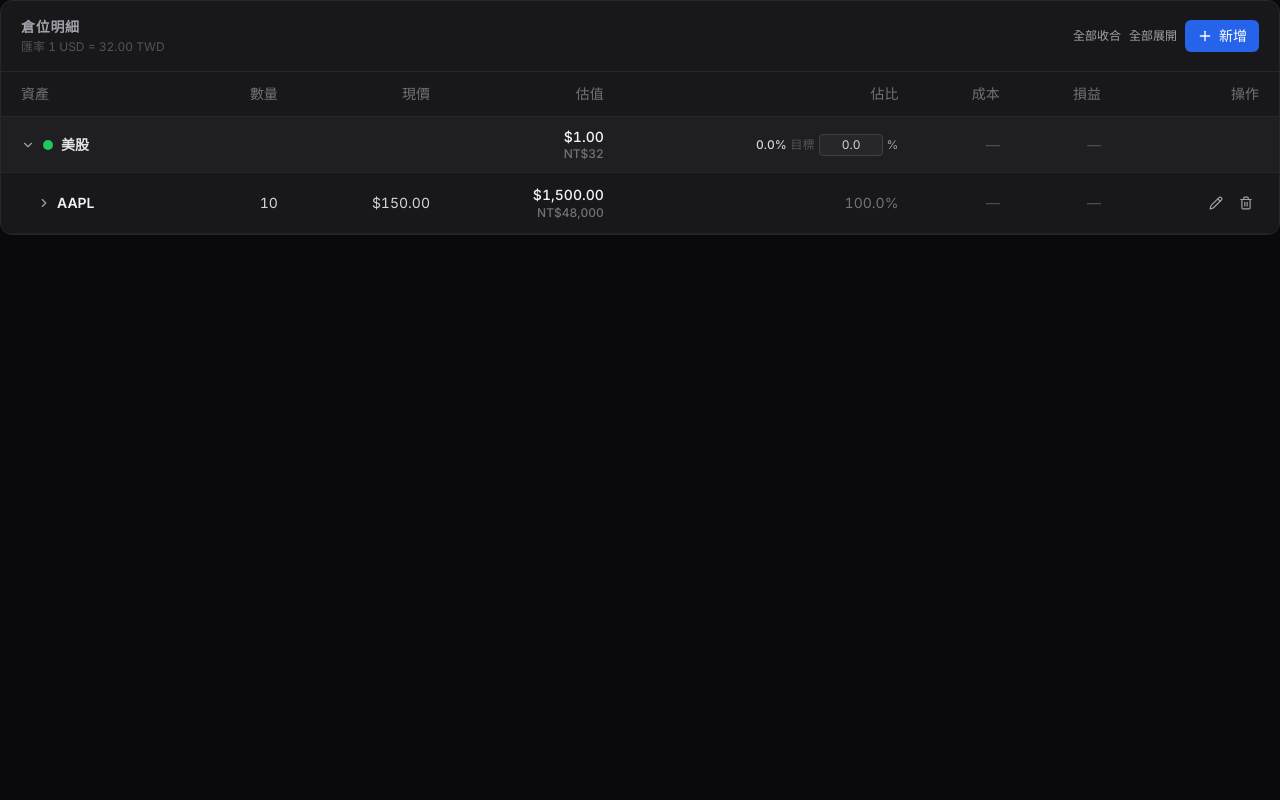
PositionTable › sub-table trash shows lot confirm dialog
Click the text "AAPL" at [76, 203], box x1=57 y1=193 x2=94 y2=213
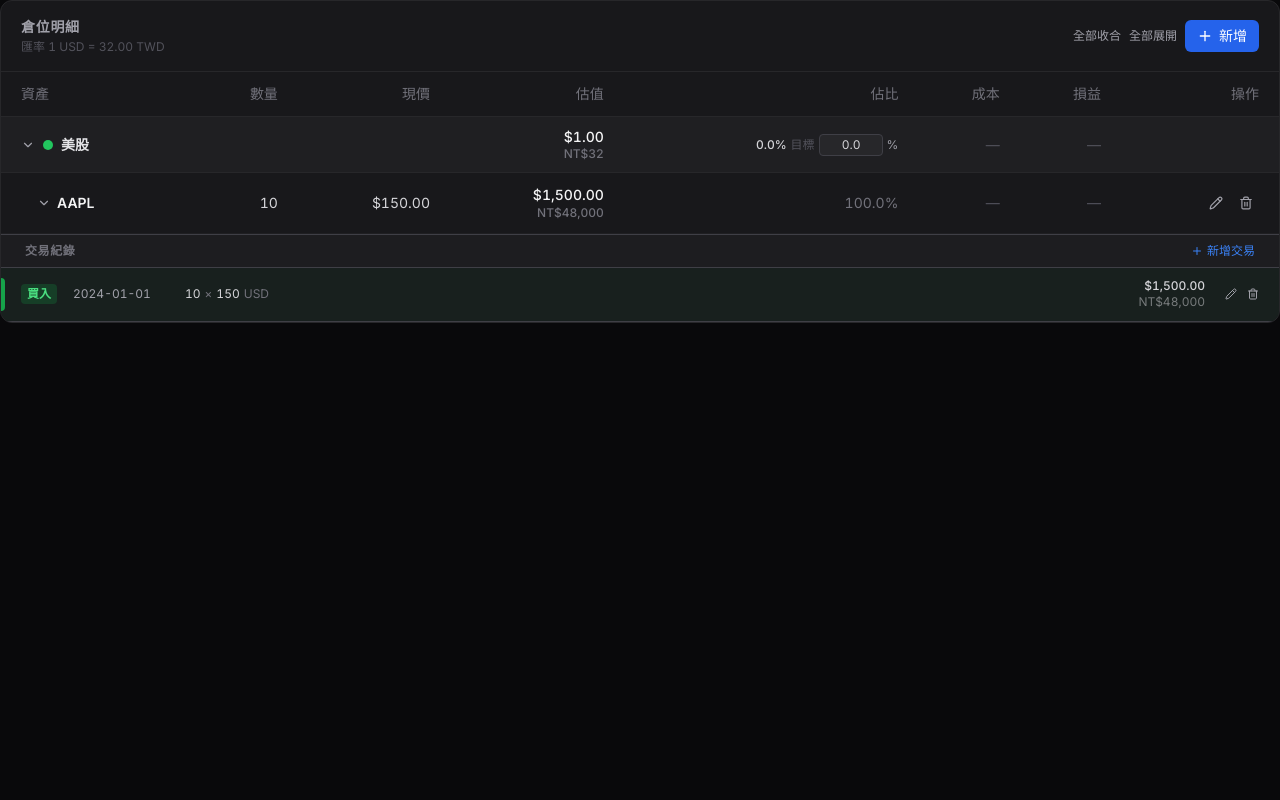
Click the button titled "刪除交易" at [1253, 294], box x1=1243 y1=284 x2=1263 y2=304
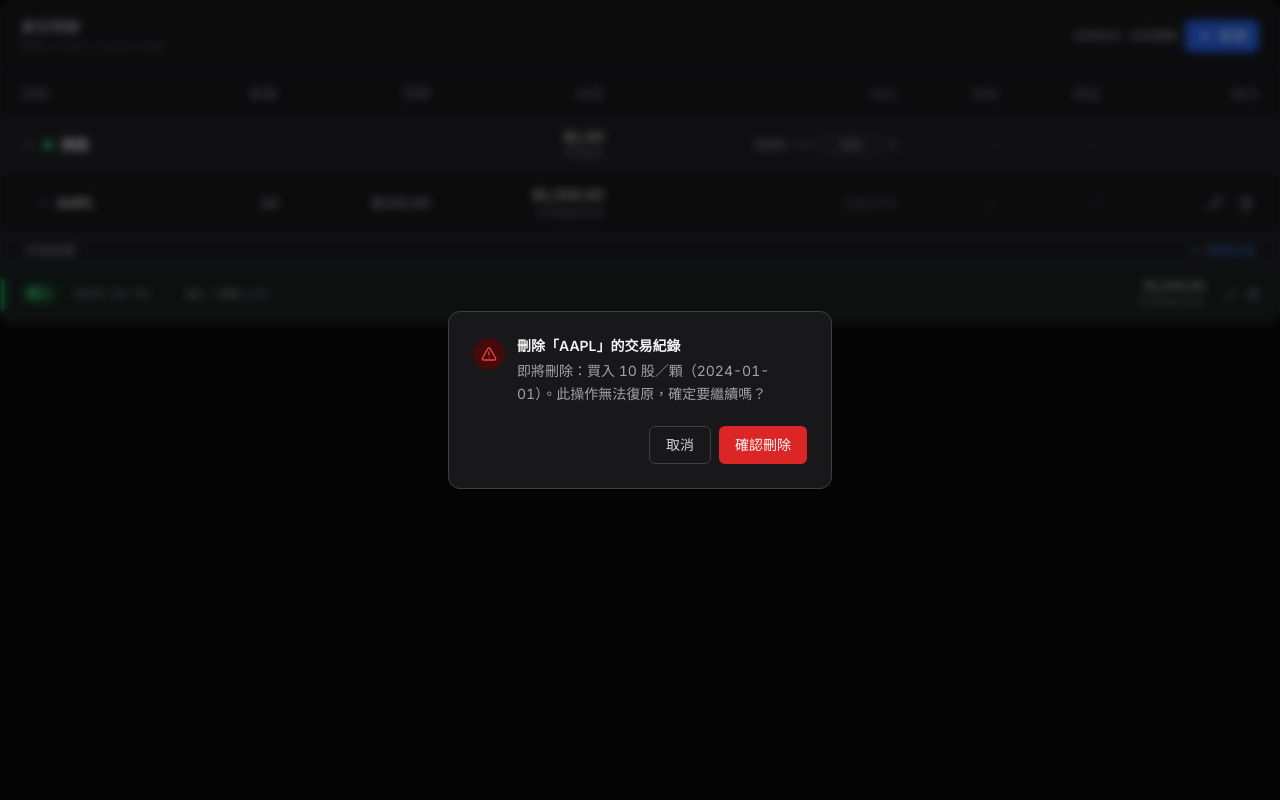
expect the heading "刪除「AAPL」的交易紀錄" is shown: met, box x1=517 y1=337 x2=680 y2=354
